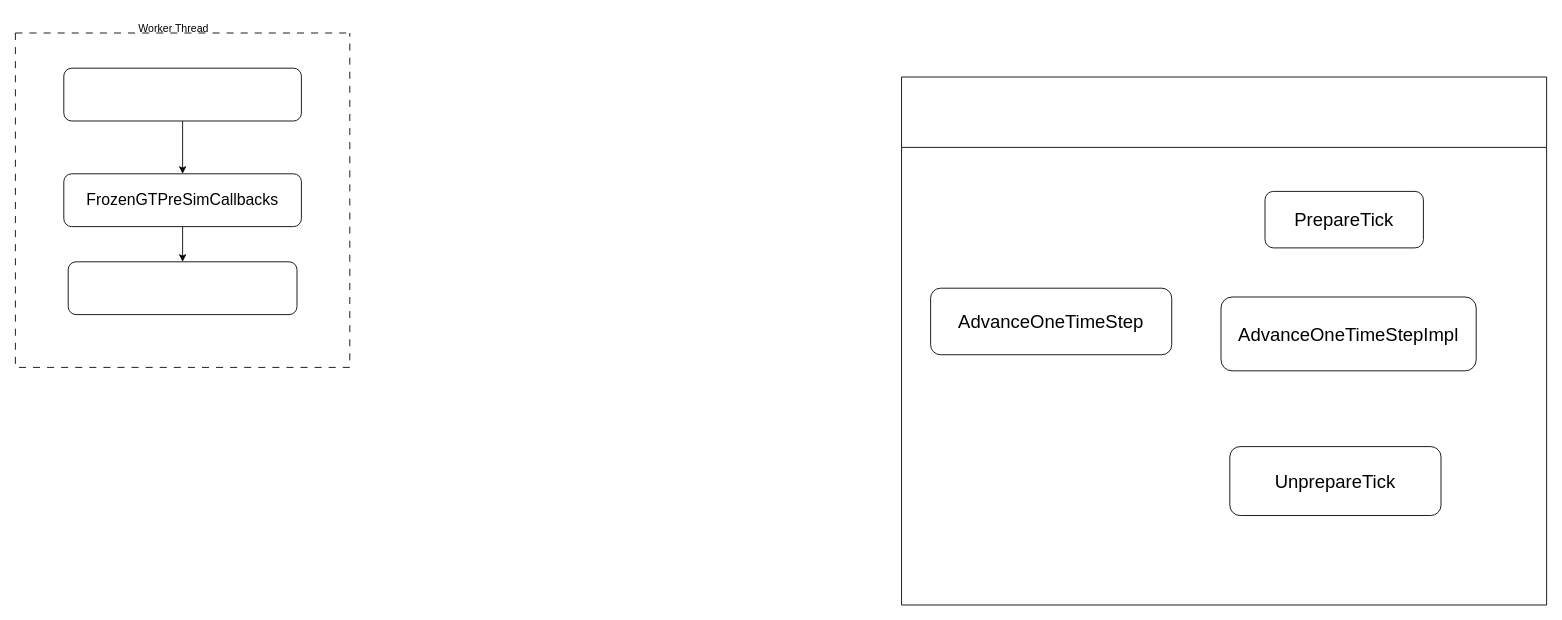
This 1562x620 diagram has some shape labels left out. The centre of each missing label's shape, as x and y in pixels:
FPBDRigidsEvolutionGBF: point 1224,340
PushDataTask: point 182,94
SolverAdvanceTask: point 182,288
